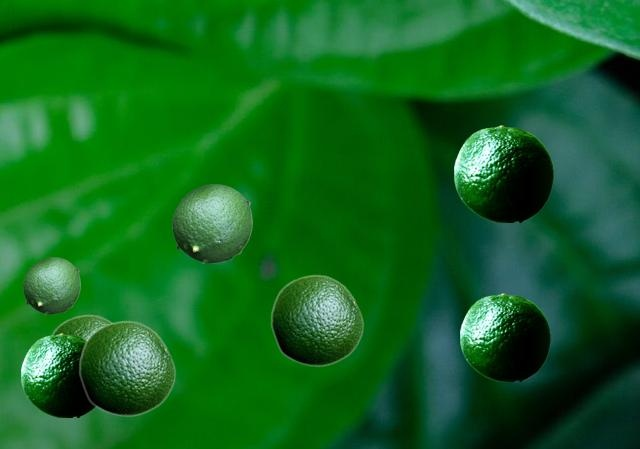calamansi: (454, 125, 552, 221), (78, 320, 175, 416), (270, 274, 363, 366), (460, 293, 549, 380), (172, 184, 251, 262), (21, 333, 94, 416), (23, 257, 79, 313), (51, 314, 111, 338)
